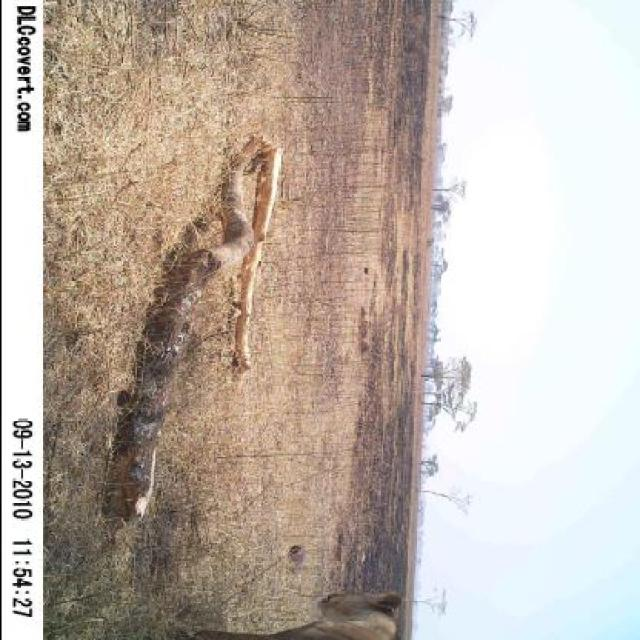Lion: (143, 582, 428, 638)
